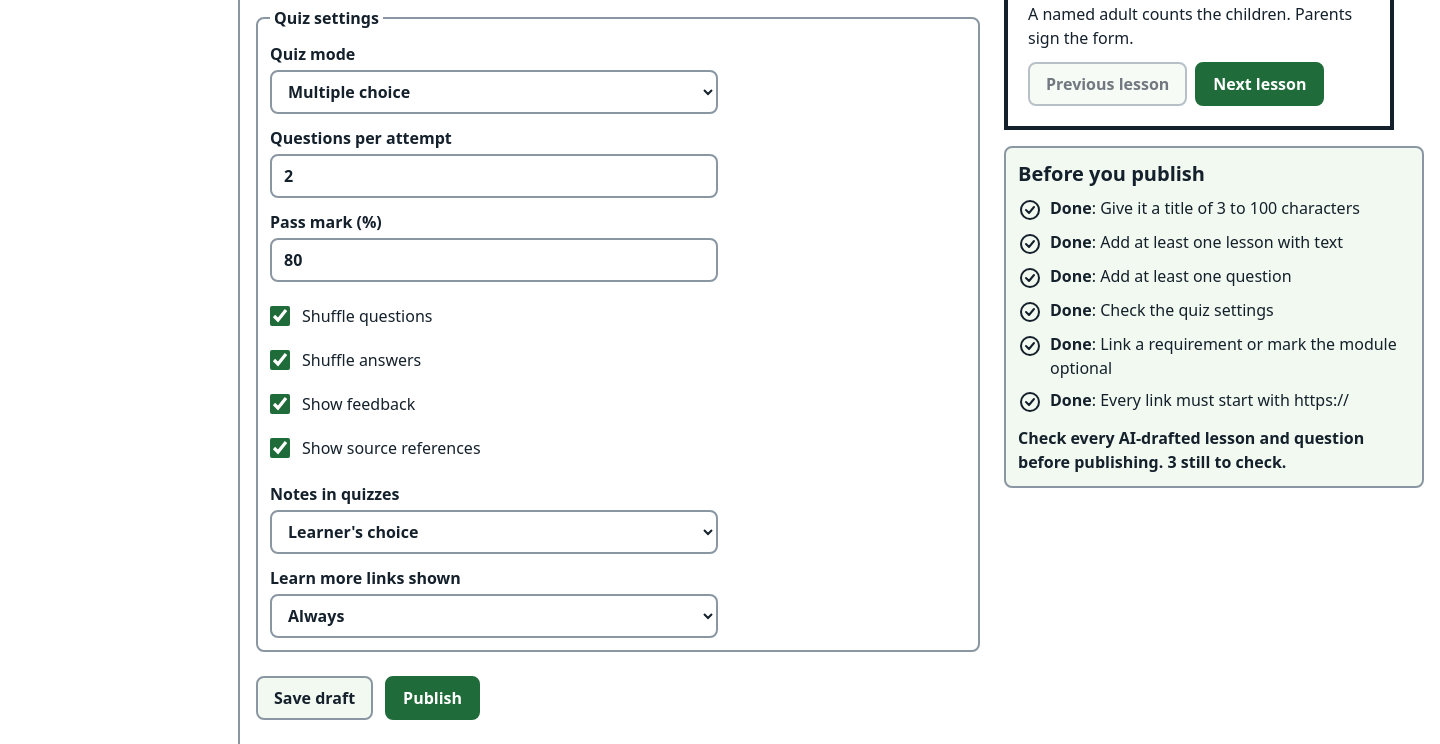
it: C7 Mark as checked and the publish checklist › refuses Publish while items are unchecked: no dialog and the cannot-publish alert
(page scrolled)
Click the button "Publish". click: (433, 698)
box: 385,676 -> 480,720
(page scrolled)
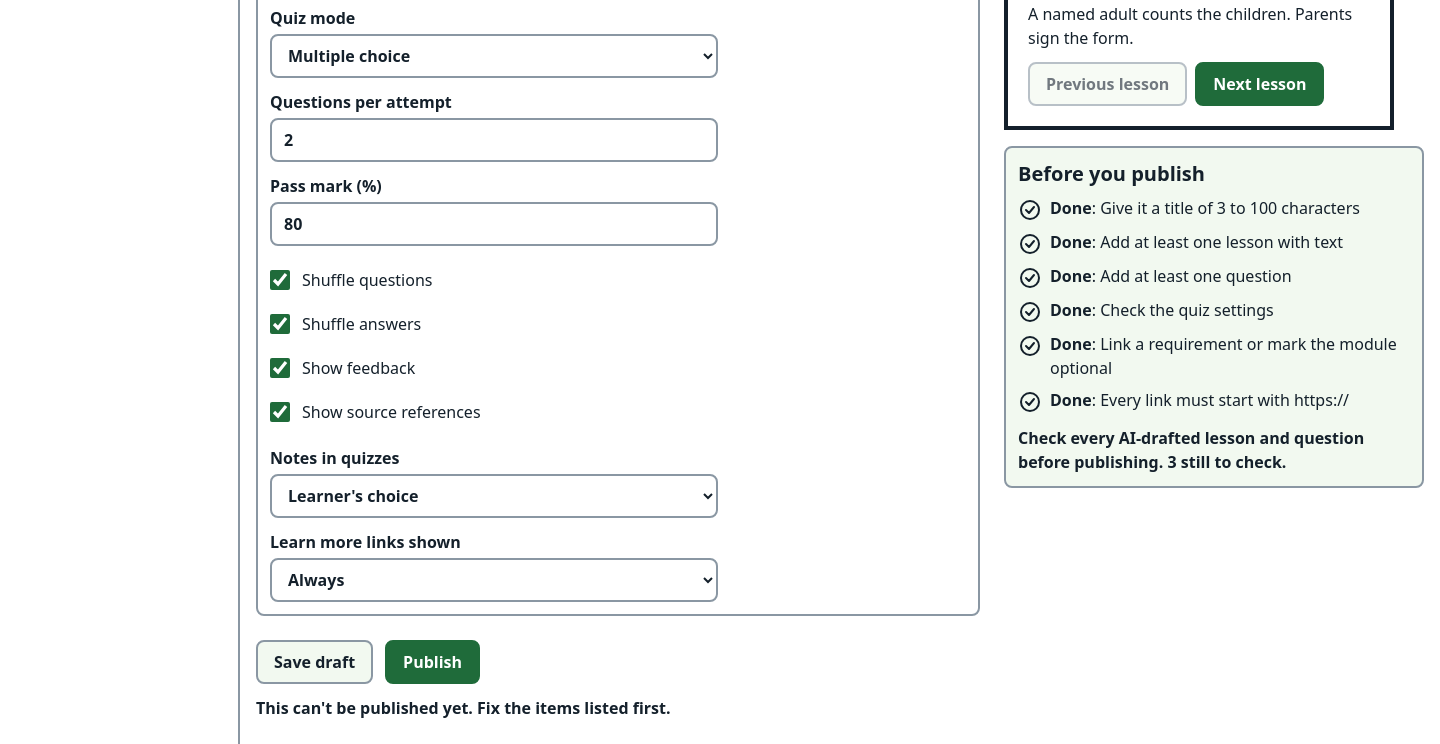
Check: the message reads "This can't be published yet. Fix the items listed first.", box 256,697 -> 670,719
